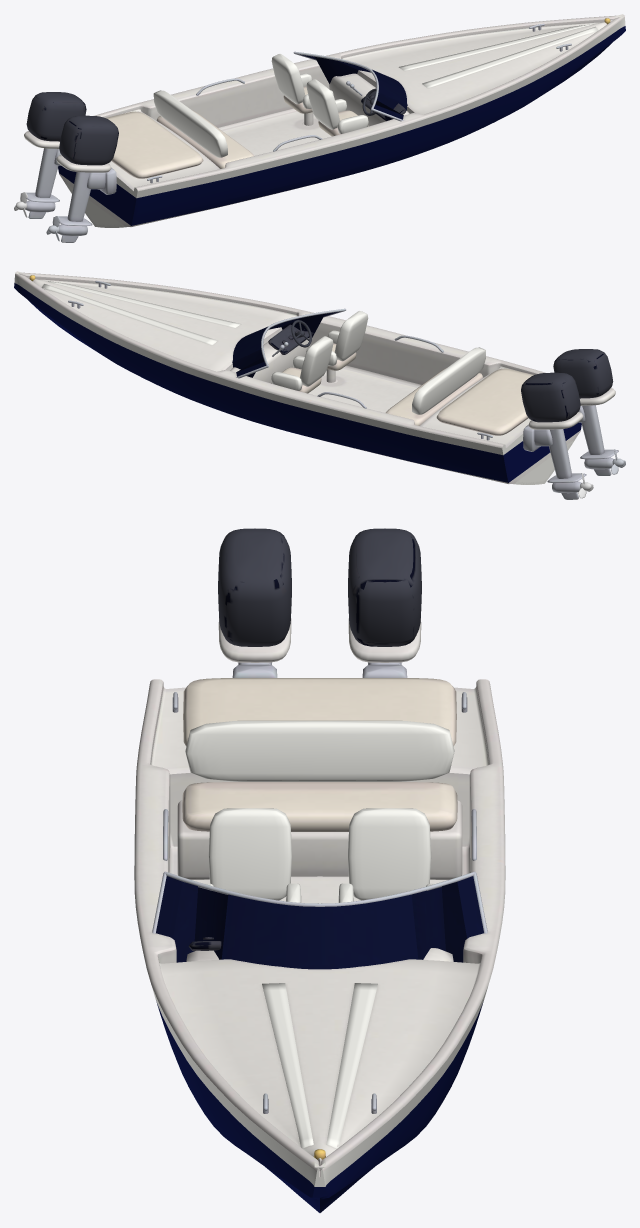
File: lancha-ventura-250-comfort-2021.glb
The picture shows the model from 3 angles, top to bottom: view 1: azimuth 30°, elevation 25°; view 2: azimuth 150°, elevation 25°; view 3: azimuth 270°, elevation 25°; orthographic projection. The views are drawn at different scales.
Visible parts, largest first — view 1: speedboat_body; view 2: speedboat_body; view 3: speedboat_body.
Boxes of the visible parts, left/top/right/bottom form: speedboat_body: left=21, top=14, right=625, bottom=242; speedboat_body: left=14, top=271, right=618, bottom=499; speedboat_body: left=134, top=528, right=505, bottom=1212.
Size of the model in its own units: 7.62 by 1.6 by 2.07.
3 materials, 1 textured.
